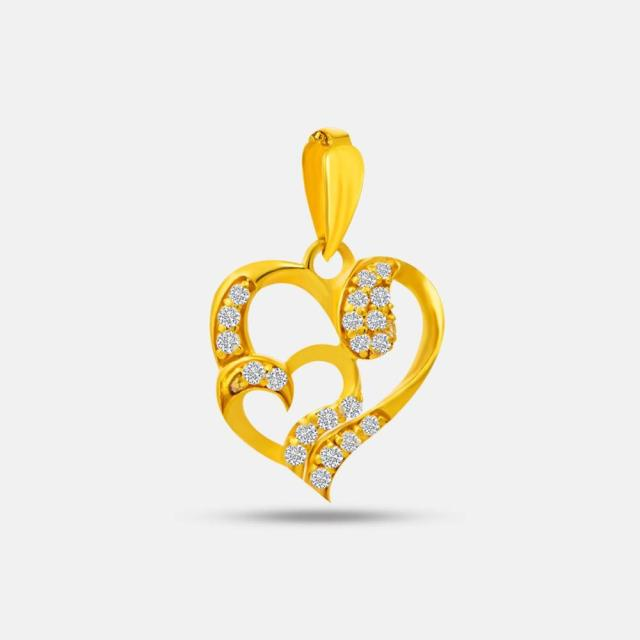missing gem: (229, 374, 246, 395)
